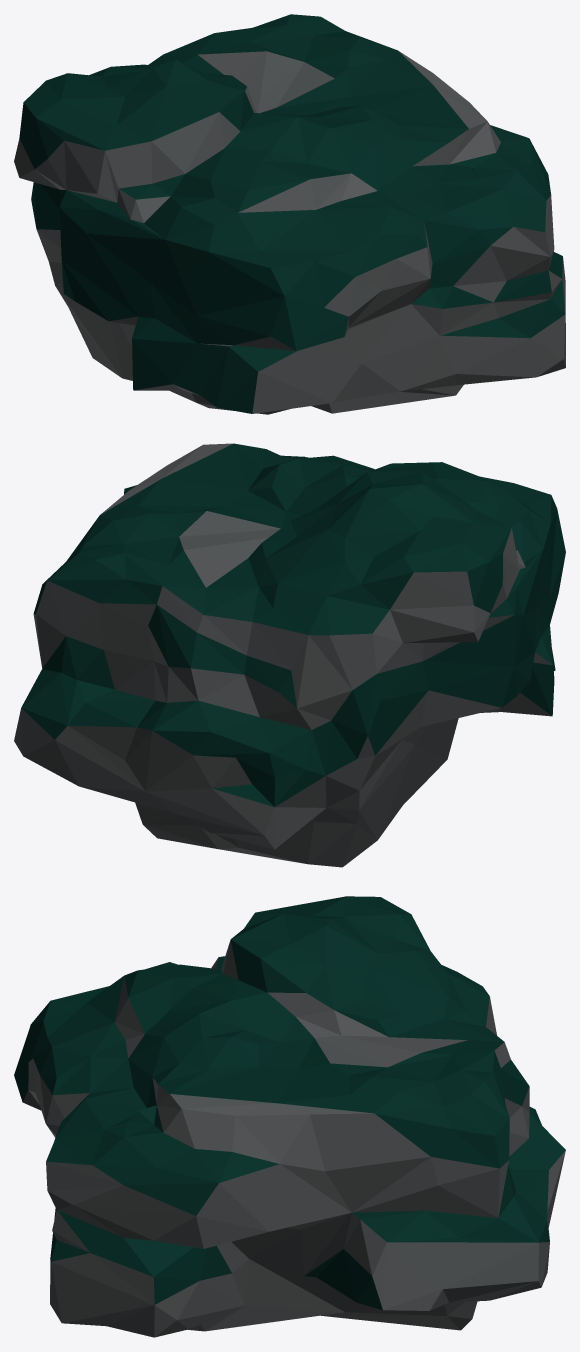
File: MCastle_CliffRock_Sml_02.FBX
The picture shows the model from 3 angles, top to bottom: view 1: azimuth 30°, elevation 25°; view 2: azimuth 150°, elevation 25°; view 3: azimuth 270°, elevation 25°; orthographic projection.
Parts seen in each view (by area): view 1: MCastle_CliffRock_Sml_02_LOD0; view 2: MCastle_CliffRock_Sml_02_LOD0; view 3: MCastle_CliffRock_Sml_02_LOD0.
Part boxes in pixels (bbox=[...]): MCastle_CliffRock_Sml_02_LOD0: bbox=[14, 14, 565, 414]; MCastle_CliffRock_Sml_02_LOD0: bbox=[14, 443, 565, 867]; MCastle_CliffRock_Sml_02_LOD0: bbox=[14, 896, 565, 1337].
Size of what is drawn, in the model's own units: 5.12 by 3.73 by 5.59.
